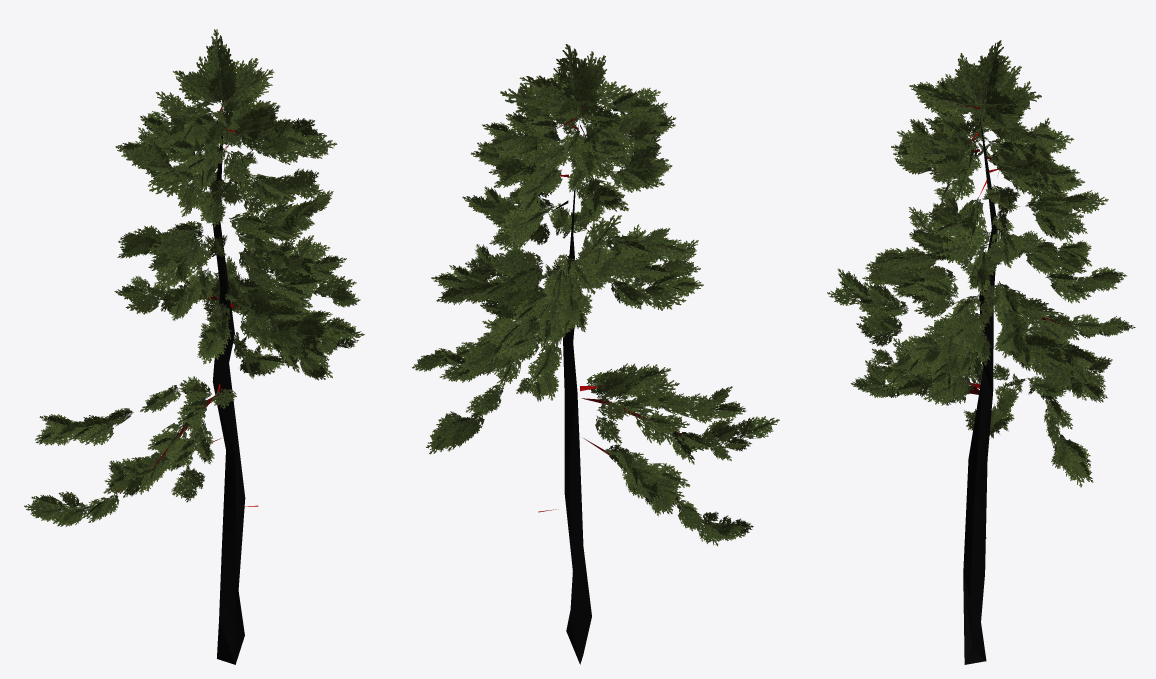
The model's file is pine2 lod2.FBX.
3 renders of one model, left to right at view 1: azimuth 30°, elevation 25°; view 2: azimuth 150°, elevation 25°; view 3: azimuth 270°, elevation 25°, orthographic.
Visible parts, largest first — view 1: pine2_LOD2; view 2: pine2_LOD2; view 3: pine2_LOD2.
Boxes of the visible parts, x1,y1,x2,y2 form: pine2_LOD2: [24, 29, 364, 664]; pine2_LOD2: [412, 44, 779, 664]; pine2_LOD2: [827, 40, 1135, 664].
Size of the model in its own units: 146719 by 272968 by 124558.
